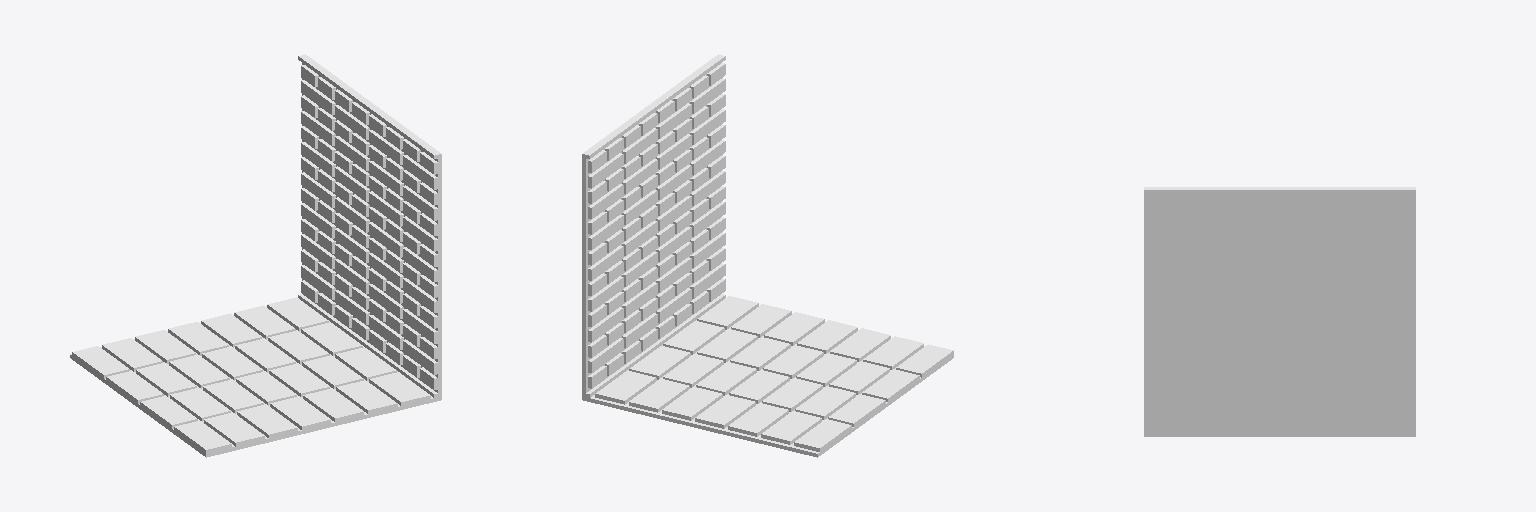
Rendered from corridor_1.obj.
The picture shows the model from 3 angles: view 1: azimuth 30°, elevation 25°; view 2: azimuth 150°, elevation 25°; view 3: azimuth 270°, elevation 25°; orthographic projection.
Parts seen in each view (by area): view 1: object 1; view 2: object 1; view 3: object 1.
Part boxes in pixels (x1,y1,x2,y2): object 1: (70,54,441,457); object 1: (582,54,953,457); object 1: (1144,187,1415,436).
Bounding box in the file's own units: 6.4 × 6.4 × 6.4.